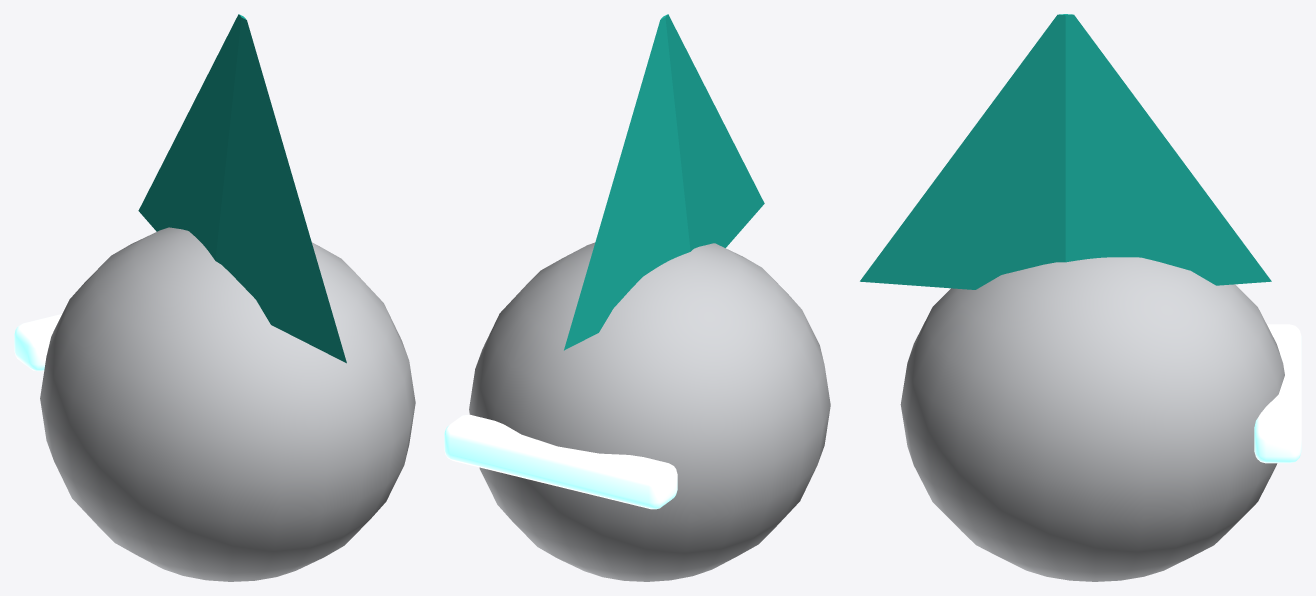
The model's file is head_crest.glb.
3 views of the same model, side by side, from view 1: azimuth 30°, elevation 25°; view 2: azimuth 150°, elevation 25°; view 3: azimuth 270°, elevation 25° (orthographic). The views are drawn at different scales.
Parts seen in each view (by area): view 1: Helm, Crest, Slit; view 2: Helm, Crest, Slit; view 3: Helm, Crest, Slit.
Part boxes in pixels (x1,y1,x2,y2): Helm: [40, 227, 415, 581]; Crest: [138, 14, 346, 363]; Slit: [14, 314, 61, 371]; Helm: [469, 242, 830, 581]; Crest: [564, 14, 764, 350]; Slit: [444, 414, 677, 509]; Helm: [900, 257, 1284, 581]; Crest: [860, 14, 1271, 289]; Slit: [1254, 324, 1301, 463].
Size of the model in its own units: 0.62 by 1.03 by 0.75.
